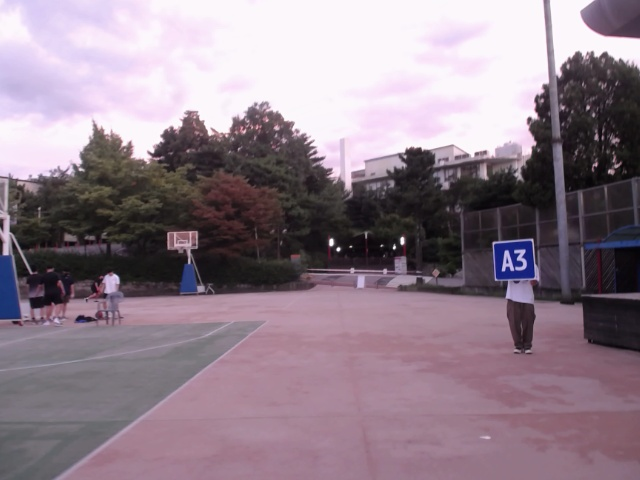delivery_a3: (490, 239, 534, 280)
